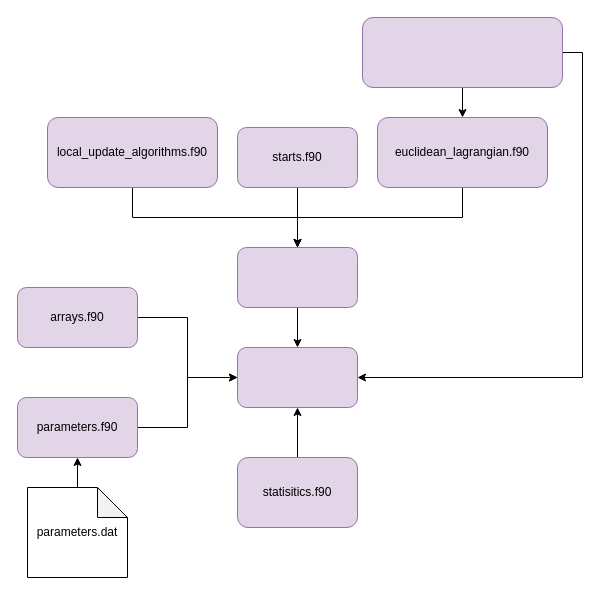
Image size: 608x595. Some labels were removed from this diagram. Each missing label, with the centre of its shape:
dynamics.f90: (x=297, y=277)
main.f90: (x=297, y=377)
periodic_boundary_conditions.f90: (x=462, y=52)
